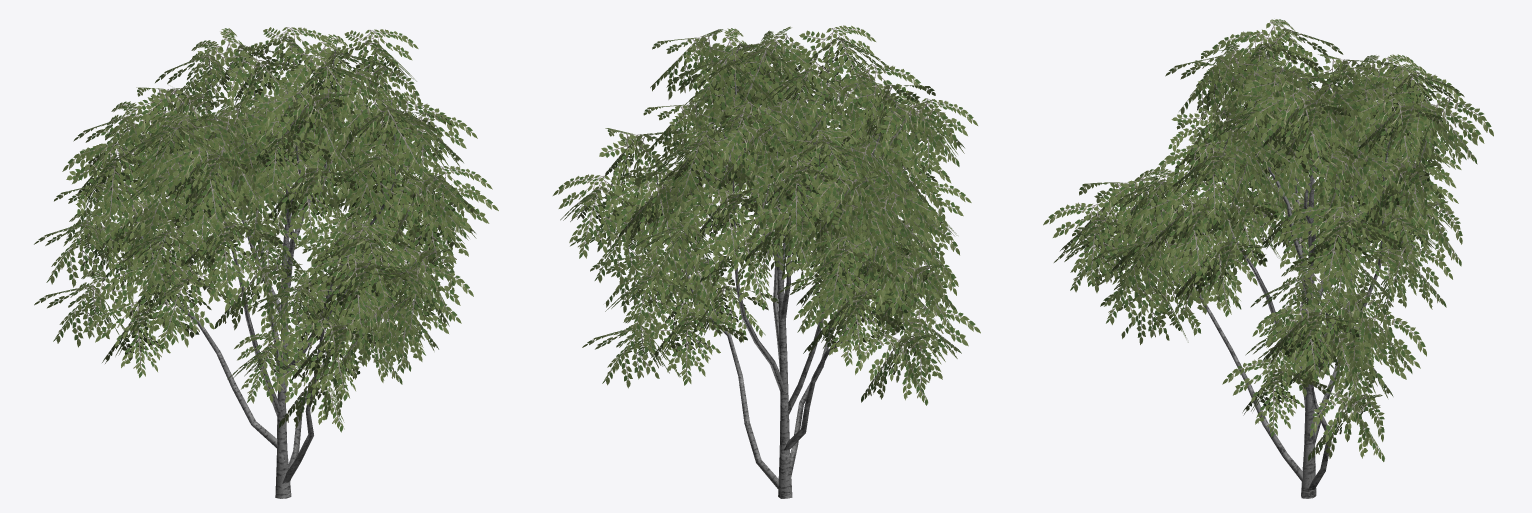
Rendered from Betula_Papyrifera_Spring_Young.glb.
3 renders of one model, left to right at view 1: azimuth 30°, elevation 25°; view 2: azimuth 150°, elevation 25°; view 3: azimuth 270°, elevation 25°, orthographic.
Parts seen in each view (by area): view 1: Betula_Papyrifera_Spring_Young__LOD3; view 2: Betula_Papyrifera_Spring_Young__LOD3; view 3: Betula_Papyrifera_Spring_Young__LOD3.
Boxes of the visible parts, x1,y1,x2,y2 form: Betula_Papyrifera_Spring_Young__LOD3: (34, 27, 498, 498); Betula_Papyrifera_Spring_Young__LOD3: (553, 25, 980, 498); Betula_Papyrifera_Spring_Young__LOD3: (1043, 19, 1493, 498).
Size of the model in its own units: 12.5 by 11.69 by 11.65.
Materials: 2 (2 with a texture image).
